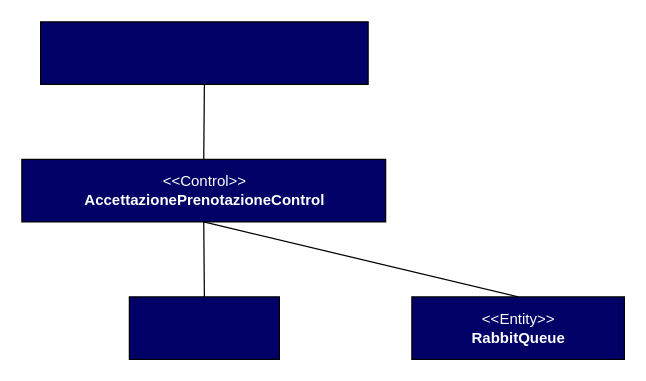
Image size: 646x381. Some labels were removed from this diagram. The shapes that lost their labels are listed below. From the top down, each one's centre as x and y in pixels, then its label:
pixel 203 52: <<Boundary>> AccettazionePrenotazioneView
pixel 203 327: <<Entity>> Impiegato
